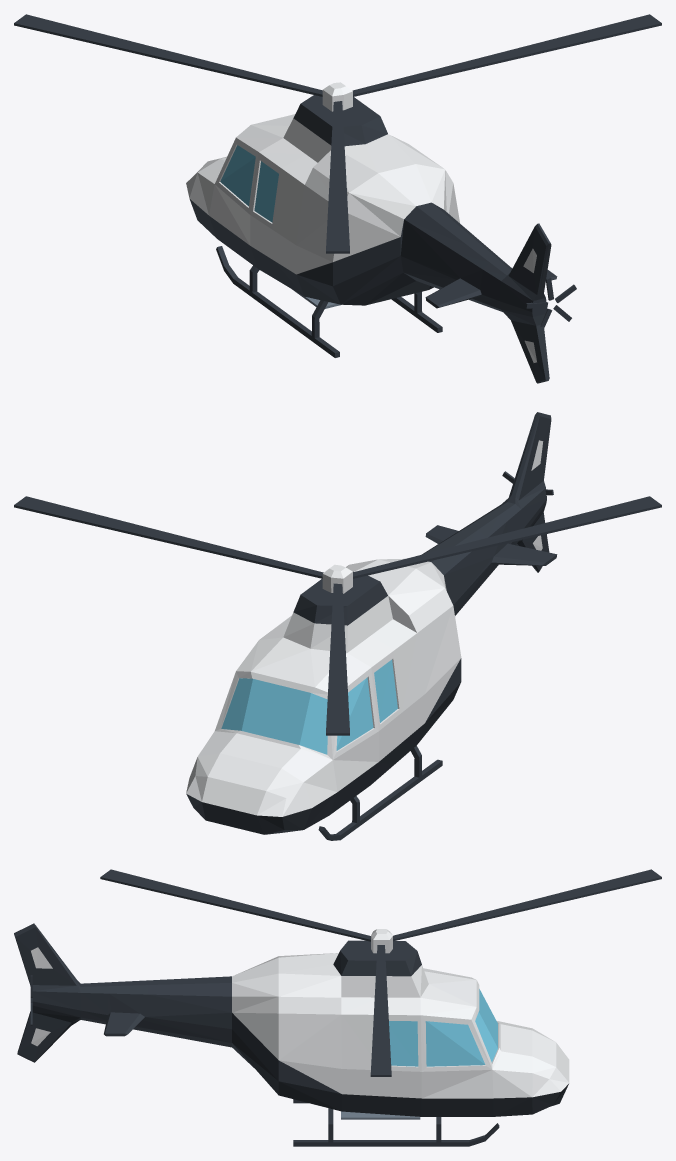
File: helicopter_drop_pre_integrated_hatch_20260830.glb
3 views of the same model, one above another, from view 1: azimuth 30°, elevation 25°; view 2: azimuth 150°, elevation 25°; view 3: azimuth 270°, elevation 25° (orthographic). The views are drawn at different scales.
Visible parts, largest first — view 1: FrameAndSkids, BodyPaint, MainRotor, Windows, TailRotor; view 2: BodyPaint, FrameAndSkids, MainRotor, Windows; view 3: BodyPaint, FrameAndSkids, MainRotor, Windows, DropHatchRight.
Part boxes in pixels (x1,y1,x2,y2): FrameAndSkids: (189,104,557,383); BodyPaint: (186,82,536,362); MainRotor: (14,14,661,253); Windows: (220,145,278,222); TailRotor: (525,277,576,327); BodyPaint: (186,440,543,816); FrameAndSkids: (186,412,557,840); MainRotor: (14,496,661,735); Windows: (221,659,397,754); BodyPaint: (31,929,569,1098); FrameAndSkids: (14,923,568,1146); MainRotor: (100,869,661,1076); Windows: (389,989,497,1066); DropHatchRight: (341,1111,420,1119).
Bounding box in the file's own units: 6.61 × 3 × 8.8.
